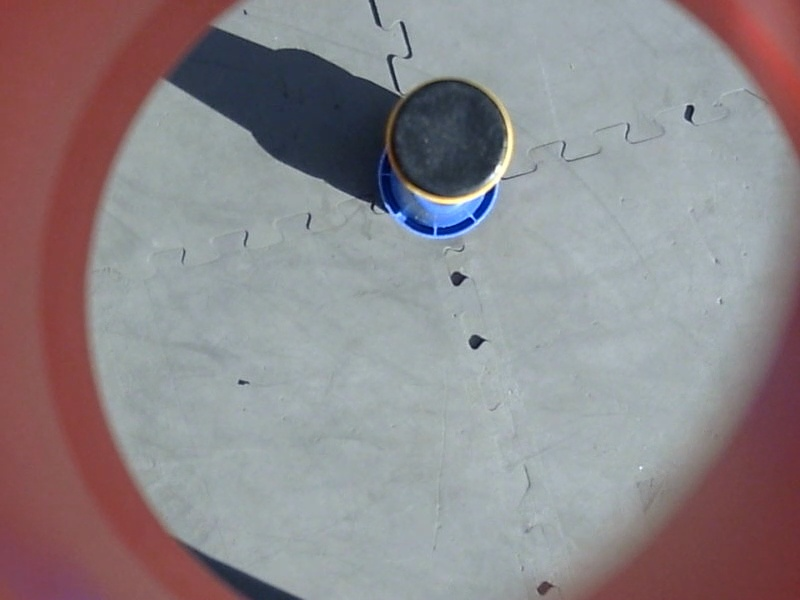tip: (380, 72, 521, 211)
